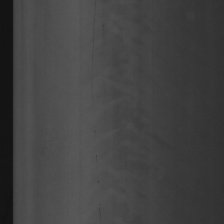inclusion: (90, 9, 104, 219)
